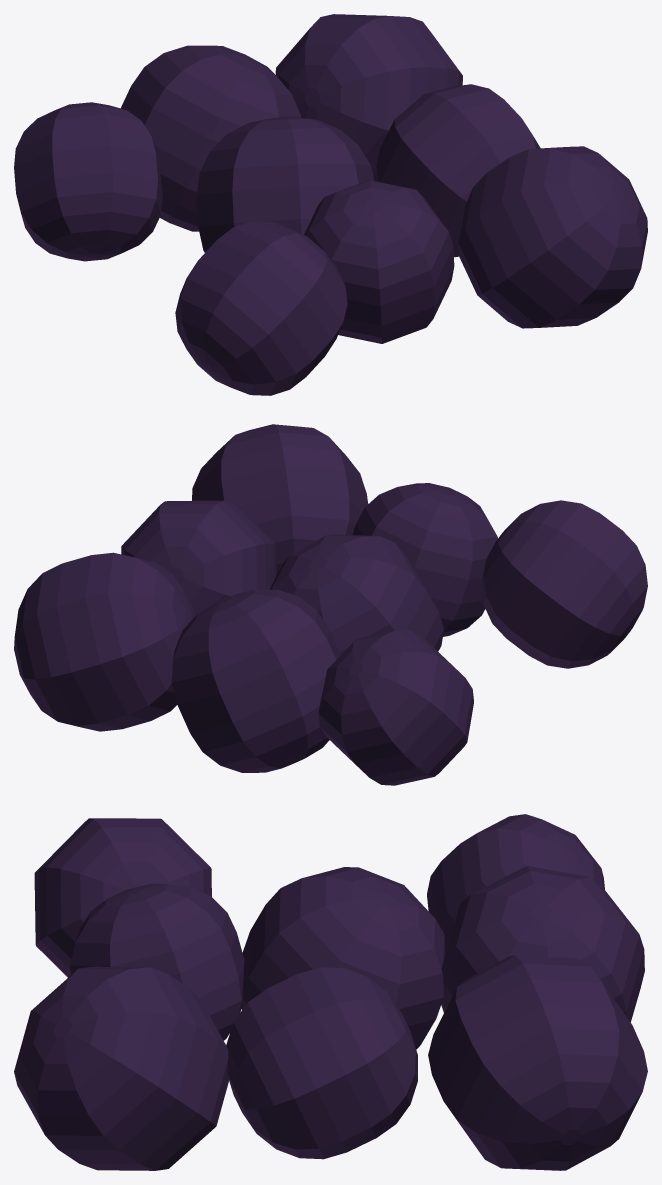
File: Piile of Plums.fbx
3 views of the same model, one above another, from view 1: azimuth 30°, elevation 25°; view 2: azimuth 150°, elevation 25°; view 3: azimuth 270°, elevation 25° (orthographic). The views are drawn at different scales.
Visible parts, largest first — view 1: Piile of Plums; view 2: Piile of Plums; view 3: Piile of Plums.
Boxes of the visible parts, x1=… form: Piile of Plums: x1=14, y1=14, x2=647, y2=395; Piile of Plums: x1=14, y1=424, x2=647, y2=785; Piile of Plums: x1=14, y1=814, x2=647, y2=1170.
Size of the model in its own units: 20.72 by 7.89 by 22.35.
